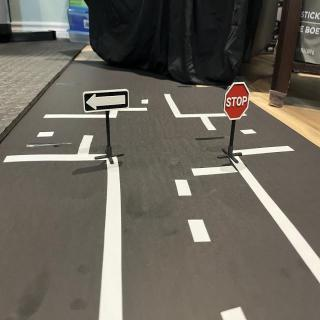sign_oneway_left: (84, 90, 130, 116)
sign_stop: (224, 83, 252, 123)
